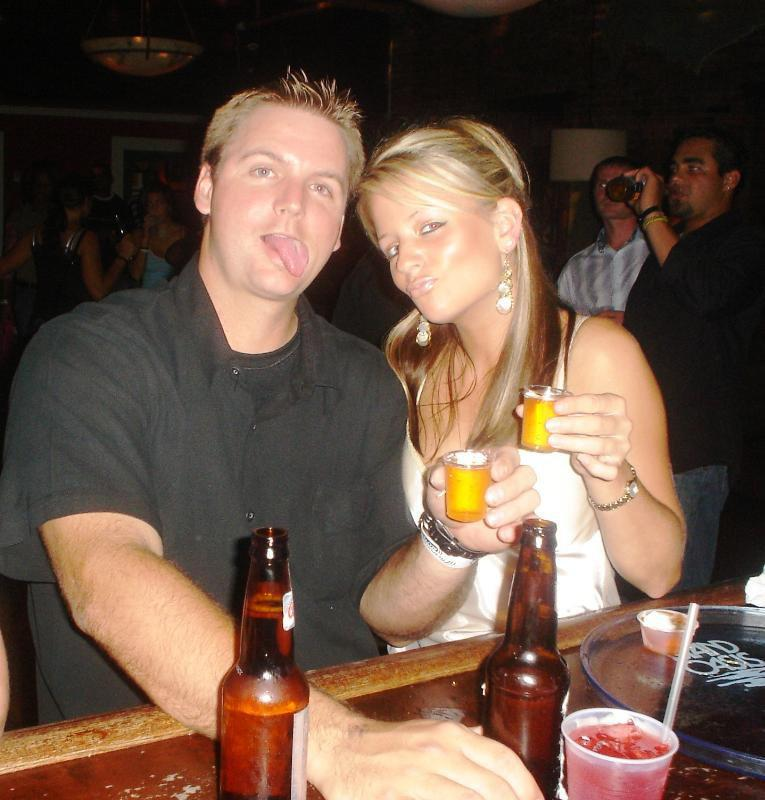Drunk: (221, 102, 345, 290), (366, 165, 492, 319)
